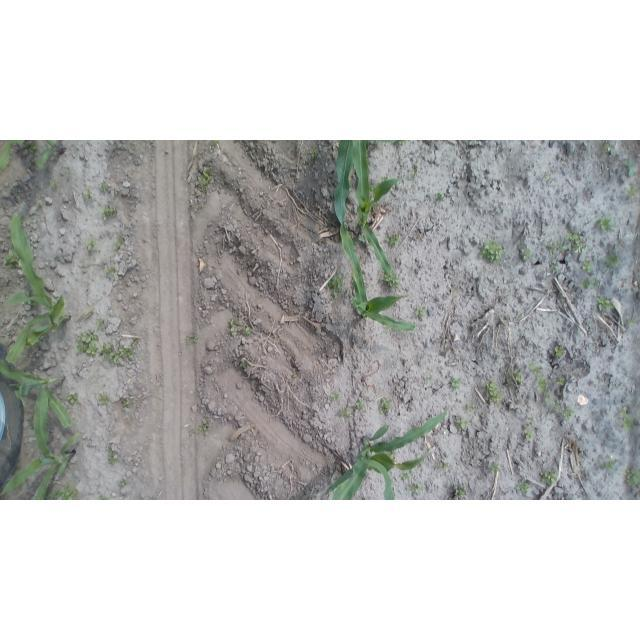Maize: (325, 408, 448, 500), (2, 215, 72, 363), (332, 140, 402, 282), (340, 233, 421, 334), (0, 359, 74, 443), (1, 445, 79, 499), (1, 141, 66, 174)
Weeds: (99, 342, 135, 365), (75, 330, 100, 359), (480, 239, 504, 264), (41, 485, 79, 500), (565, 229, 587, 253), (618, 406, 636, 432), (328, 274, 345, 298), (534, 370, 549, 394), (380, 271, 401, 288), (540, 467, 557, 486), (105, 444, 119, 467), (596, 216, 616, 232), (198, 168, 212, 190), (553, 402, 572, 418), (557, 404, 576, 420), (597, 295, 614, 312), (102, 204, 119, 221), (528, 362, 544, 380), (486, 380, 500, 400), (580, 276, 601, 289), (545, 240, 563, 255), (454, 417, 473, 431), (602, 456, 618, 472), (515, 480, 532, 495), (522, 426, 537, 443), (623, 467, 637, 485), (378, 397, 391, 416), (385, 231, 400, 247), (606, 252, 620, 269), (407, 484, 425, 497), (113, 233, 126, 251), (4, 250, 18, 266), (229, 314, 240, 334), (452, 485, 467, 499), (623, 184, 638, 198), (98, 391, 112, 405), (341, 406, 356, 419), (199, 418, 211, 434), (625, 159, 635, 178), (121, 397, 138, 408), (601, 142, 615, 155), (581, 259, 594, 273), (353, 399, 367, 412), (105, 265, 120, 277), (86, 237, 97, 253), (488, 461, 501, 474), (450, 378, 463, 391), (520, 248, 533, 261), (82, 187, 95, 200), (100, 180, 113, 193), (185, 332, 199, 344), (503, 369, 514, 384), (241, 324, 254, 336), (552, 401, 565, 413), (555, 344, 566, 358), (415, 305, 426, 318), (68, 394, 81, 405), (541, 391, 551, 404), (514, 371, 523, 385), (626, 314, 636, 326), (131, 336, 139, 351), (95, 317, 105, 329), (438, 462, 451, 471), (331, 391, 342, 401), (49, 180, 60, 190), (549, 261, 560, 271), (117, 477, 127, 487), (434, 191, 444, 201), (27, 143, 37, 153), (401, 472, 412, 481), (464, 404, 474, 413), (426, 375, 436, 384), (309, 149, 317, 160), (97, 493, 109, 500), (515, 311, 524, 320), (557, 377, 566, 386), (528, 416, 537, 425), (238, 361, 248, 369), (542, 172, 549, 182), (36, 202, 43, 211)
